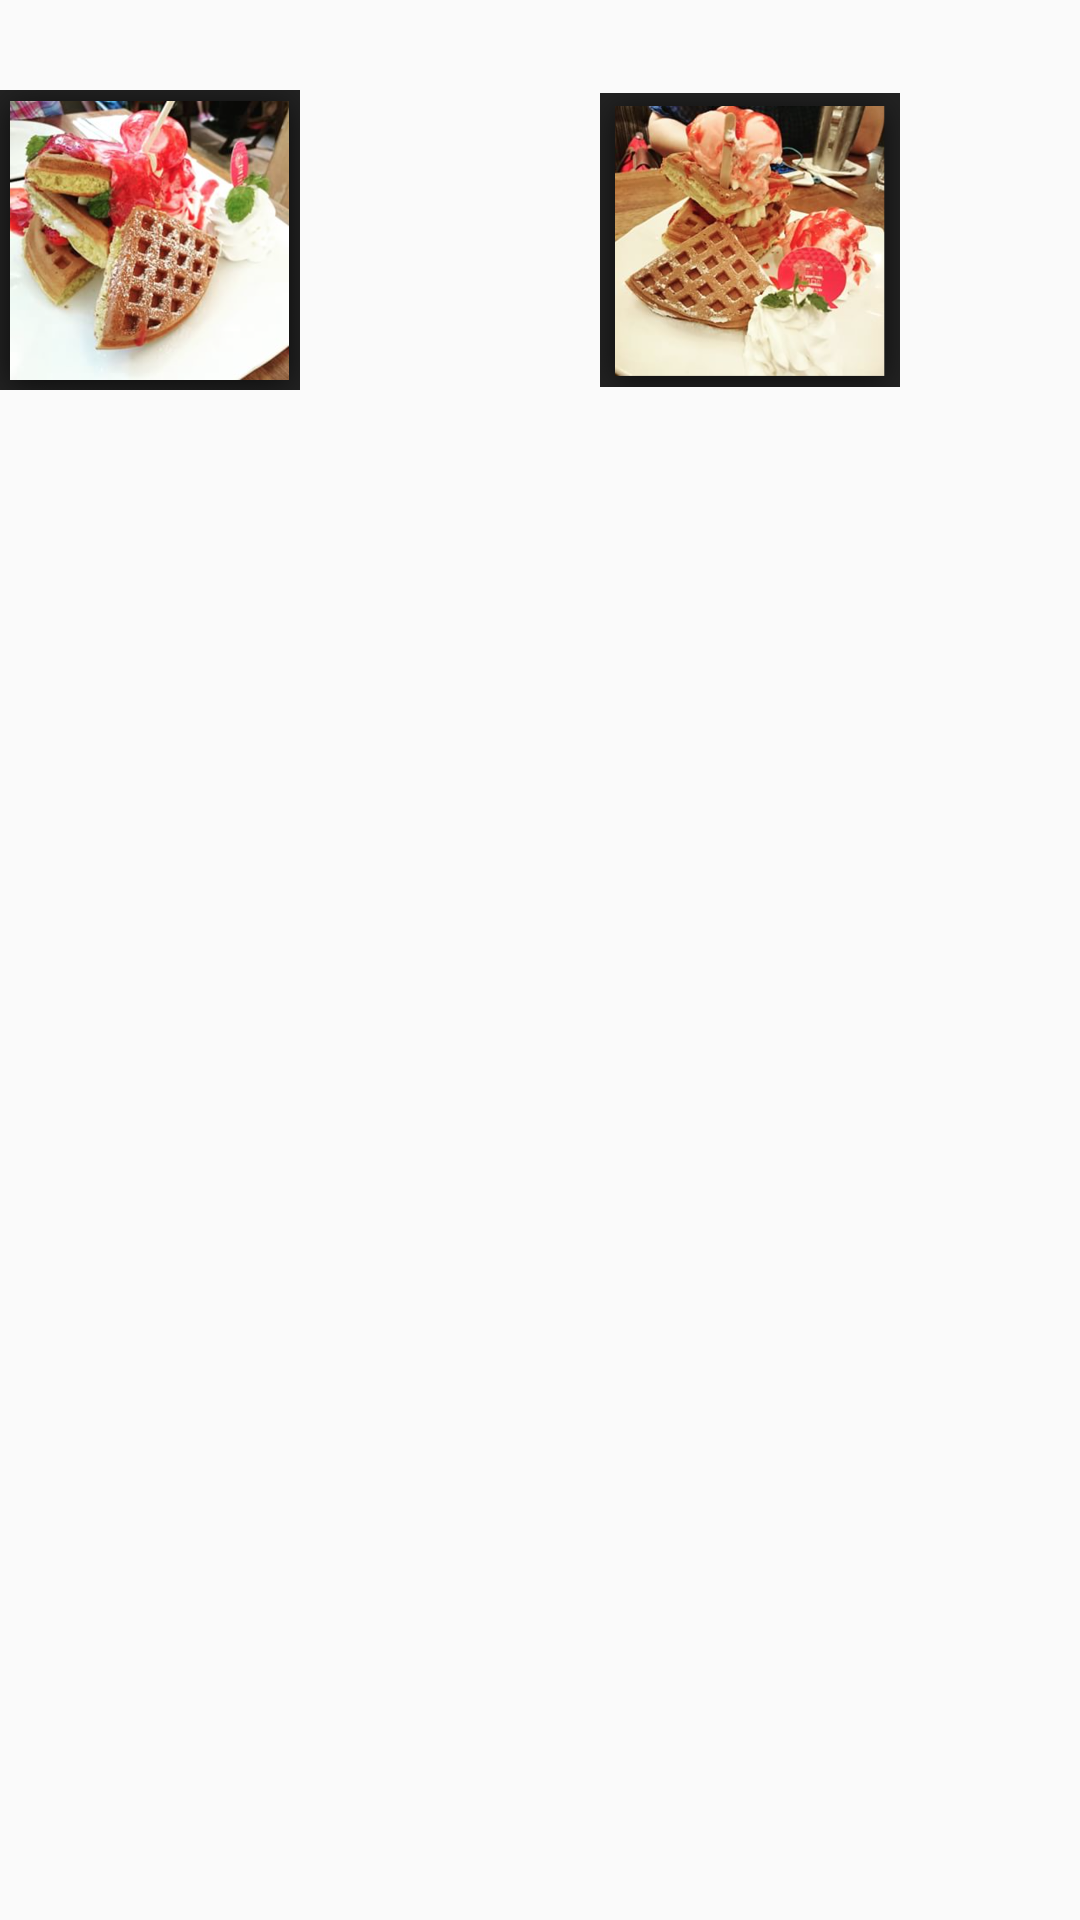

Where to tap for icons on this 1080 x 1920 app screen, as [x,y]:
pancake: [150,240], [750,240]
